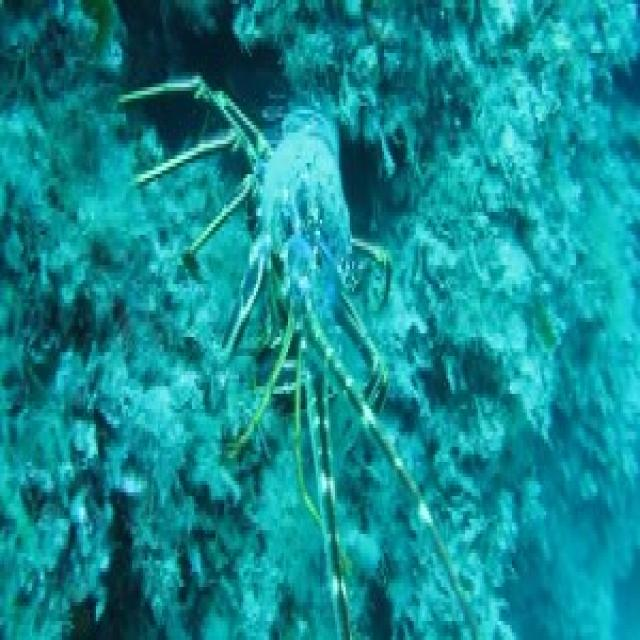lobsters: (129, 43, 497, 624)
